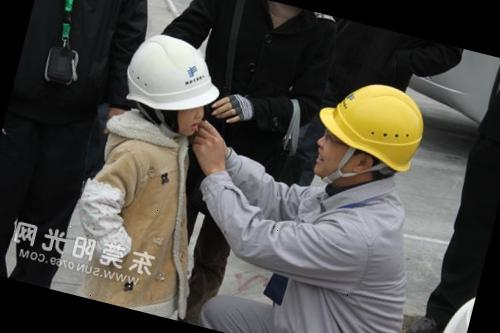helmet: (306, 69, 436, 177), (118, 23, 231, 124)
no_wear: (66, 126, 195, 314)
wear: (257, 175, 420, 333)
